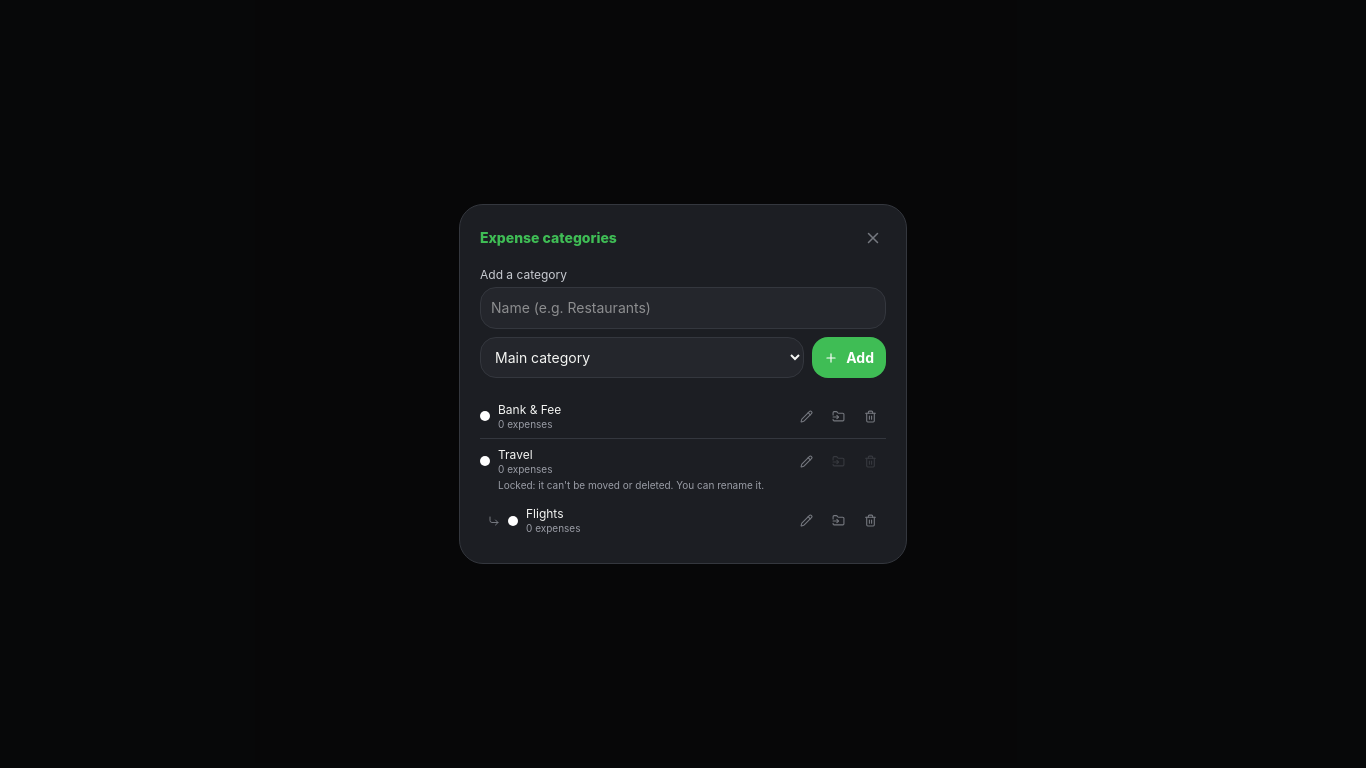
round 6C2: the Trips main is locked by id (rename free) › Delete and Move are disabled even after a rename; Rename stays on; the hint says so
Expected: the button named "Delete Travel" is disabled, [854, 445, 886, 477]
Expected: the button named "Move Travel" is disabled, [822, 445, 854, 477]
What coordinates should you click on to do the following:
click the button named "Rename Travel"
I would click on:
 (806, 461)
Its box is [790, 445, 822, 477].
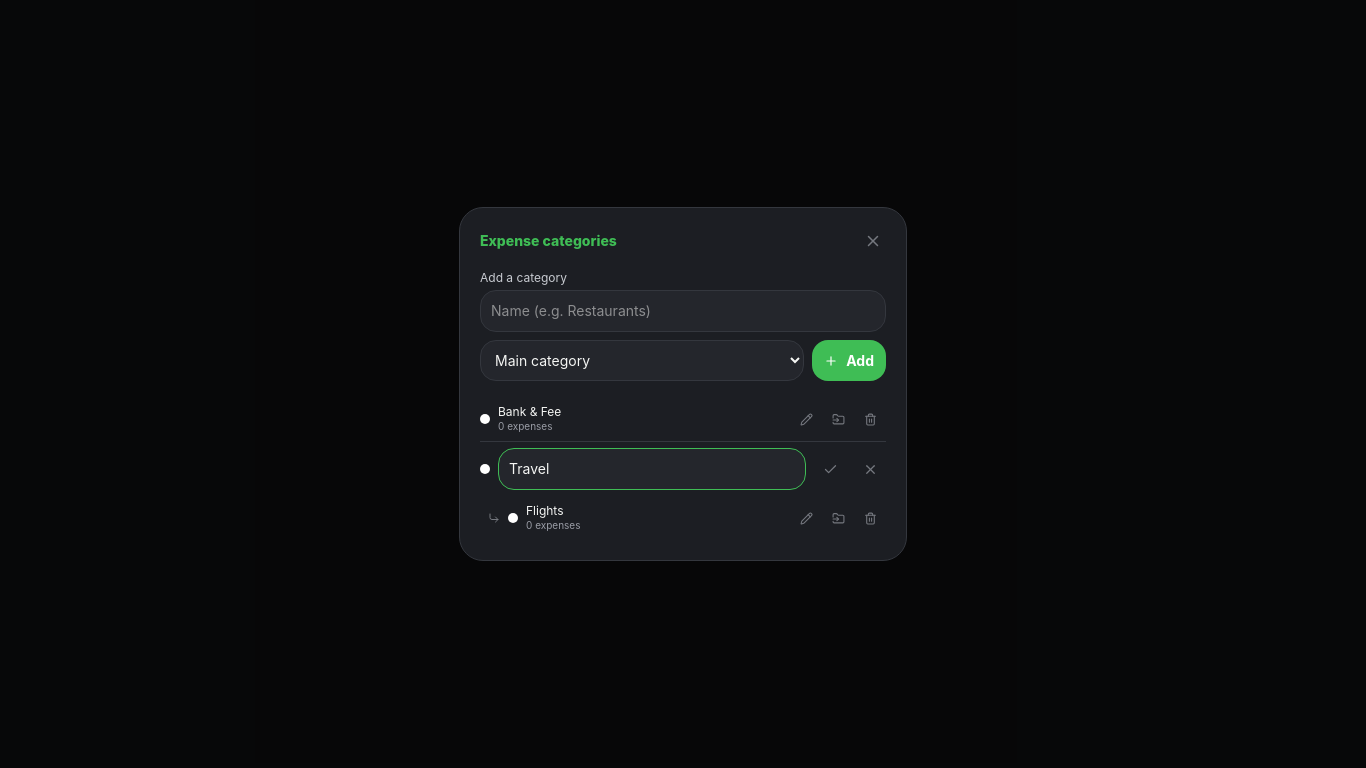
Result: the field named "New name for Travel" is shown at [498, 448, 806, 490]
